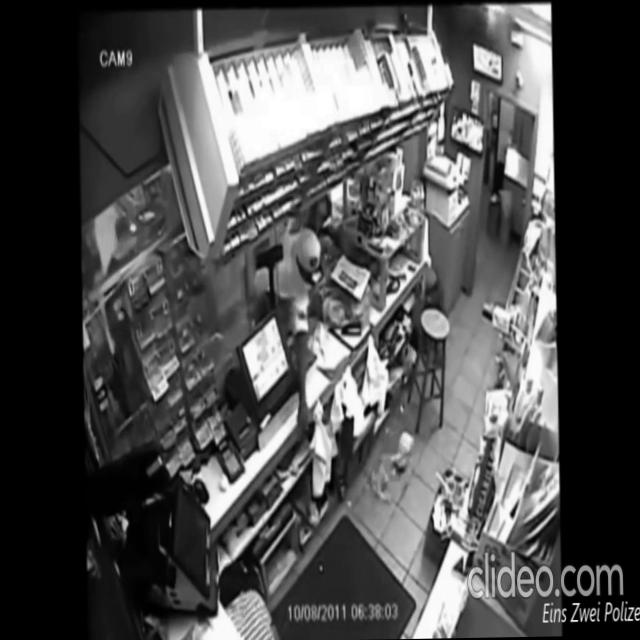gun: (302, 414, 318, 448)
person with a gun: (266, 221, 326, 448)
